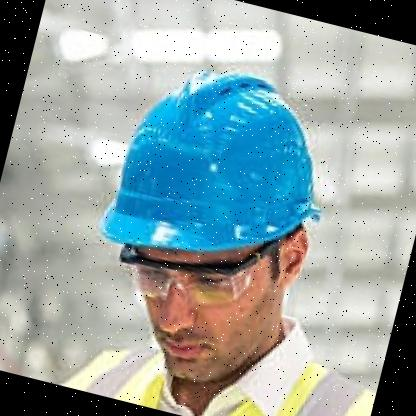capacete: (92, 44, 356, 294)
oculos: (103, 226, 272, 328)
